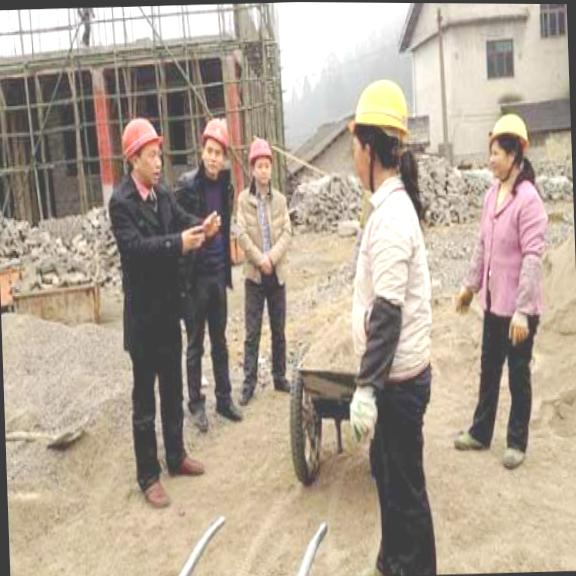no_safety_vest: (341, 179, 438, 388), (107, 177, 191, 355), (474, 176, 550, 327), (172, 168, 238, 298), (231, 185, 295, 289)
